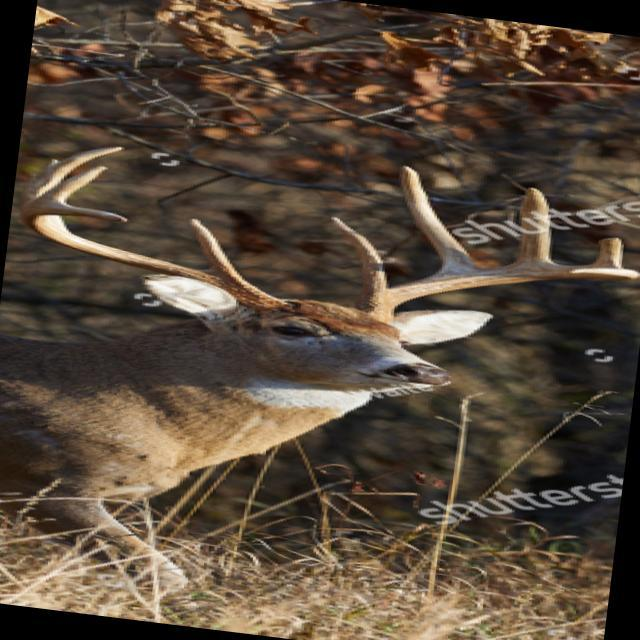L-G1: (328, 215, 389, 298)
L-G2: (396, 164, 482, 274)
L-G3: (503, 186, 557, 267)
L-G4: (585, 236, 626, 268)
R-F: (17, 203, 293, 313)
R-G1: (187, 218, 253, 285)
R-G2: (31, 164, 110, 205)
R-G3: (20, 145, 128, 203)
